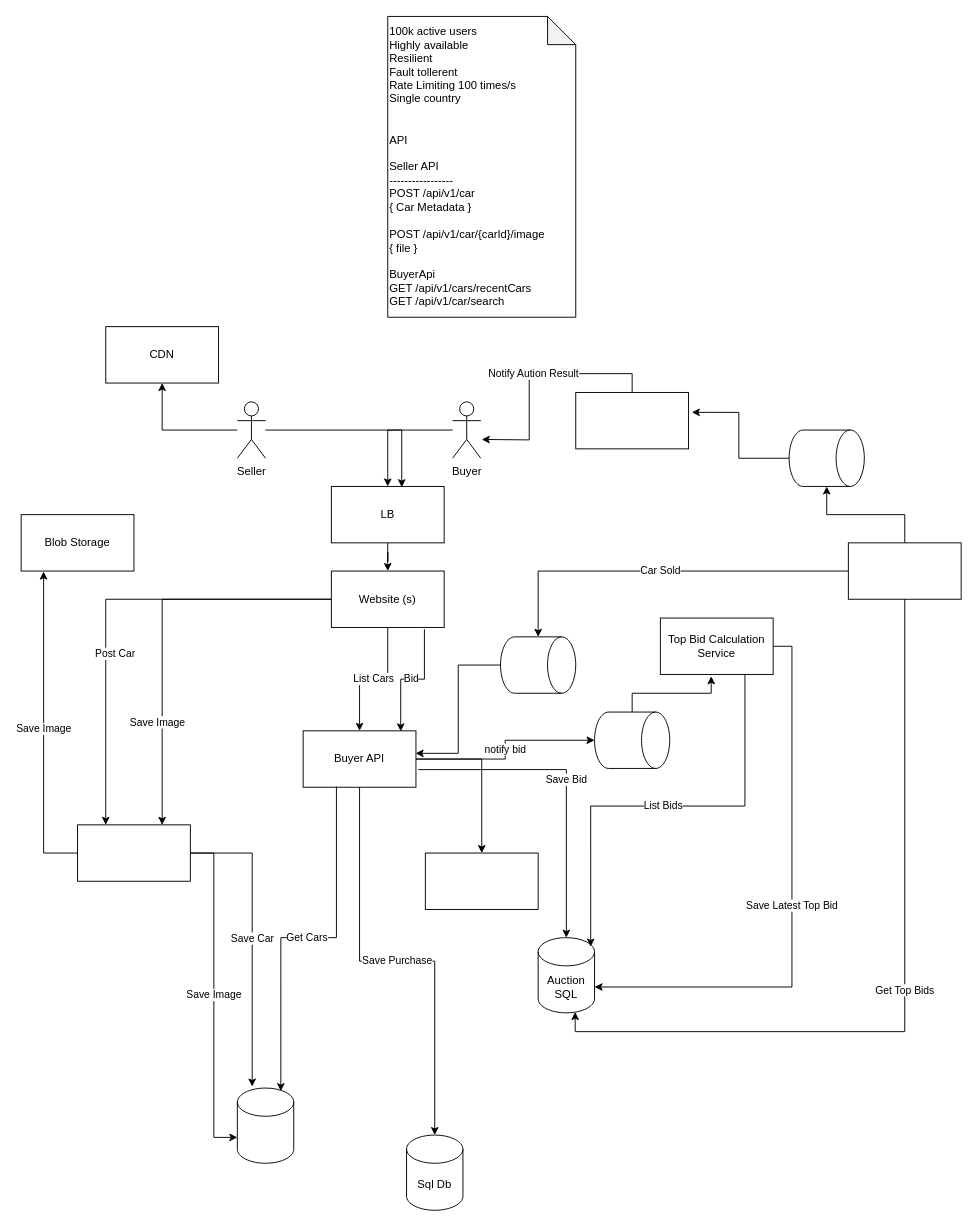
Some shapes in this 979 by 1227 pixel diagram are drawn without their labels. Each missing label, with the box of its shape:
Auction Service Triggered by time: (847, 542, 961, 599)
Cache Layer: (424, 852, 538, 909)
Cars Mongodb: (236, 1087, 294, 1163)
Email Service: (575, 392, 689, 449)
Seller API: (77, 824, 190, 881)
